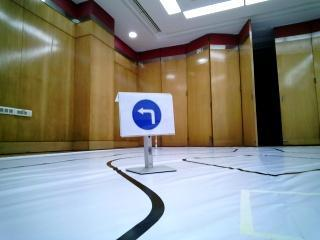left: (123, 96, 173, 135)
